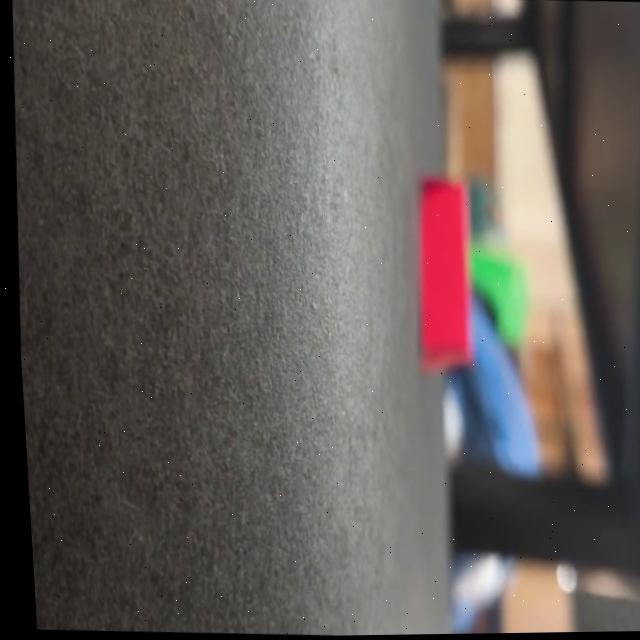red block: (407, 175, 482, 374)
